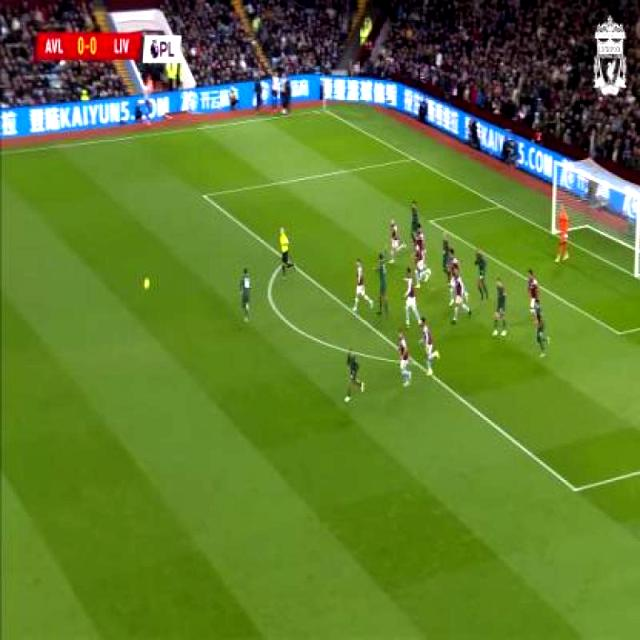bigarea_bottom_inner: (568, 477, 582, 505)
bigarea_top_inner: (196, 186, 214, 208)
bigarea_top_outter: (406, 150, 418, 168)
bottom_arc_area_intersection: (409, 356, 423, 370)
corner: (316, 106, 330, 116)
smallarea_bottom_inner: (612, 320, 626, 345)
smallarea_top_inner: (424, 212, 438, 232)
smallarea_top_outter: (494, 198, 504, 214)
